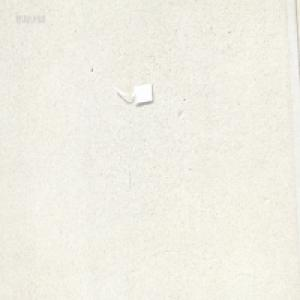LuggageTag: (113, 81, 153, 106)
